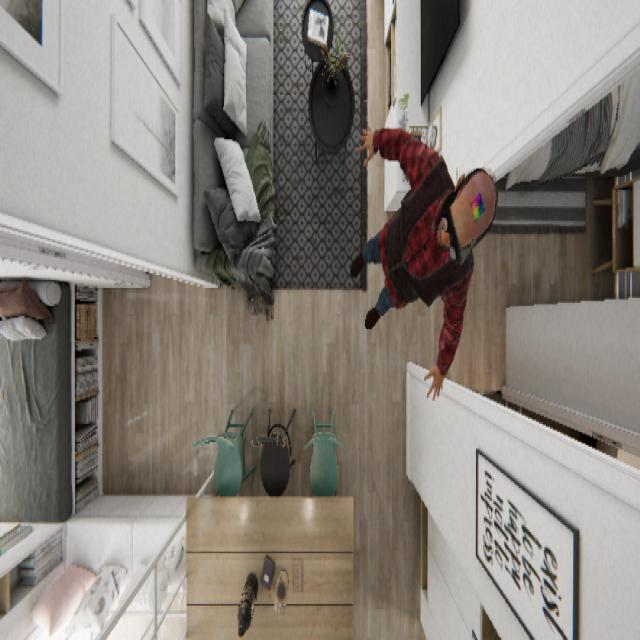Colored-Marker: (469, 188, 486, 223)
Human: (349, 123, 498, 401)
